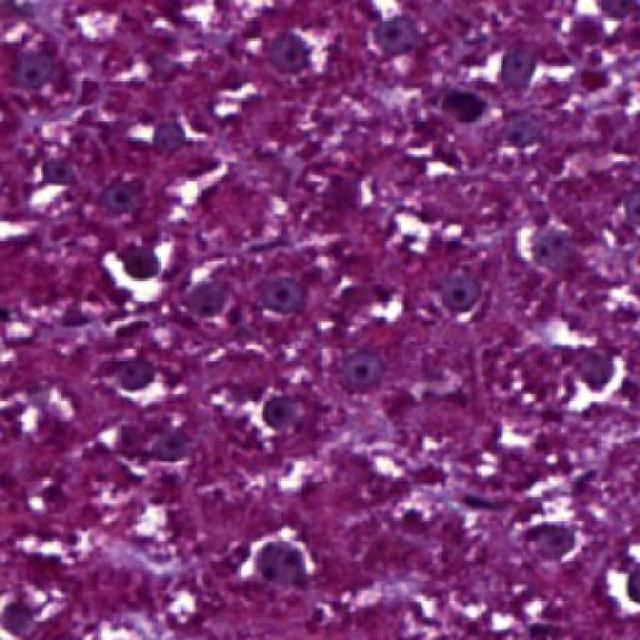inflammation: (560, 348, 635, 416), (98, 246, 174, 306), (234, 528, 319, 578)
